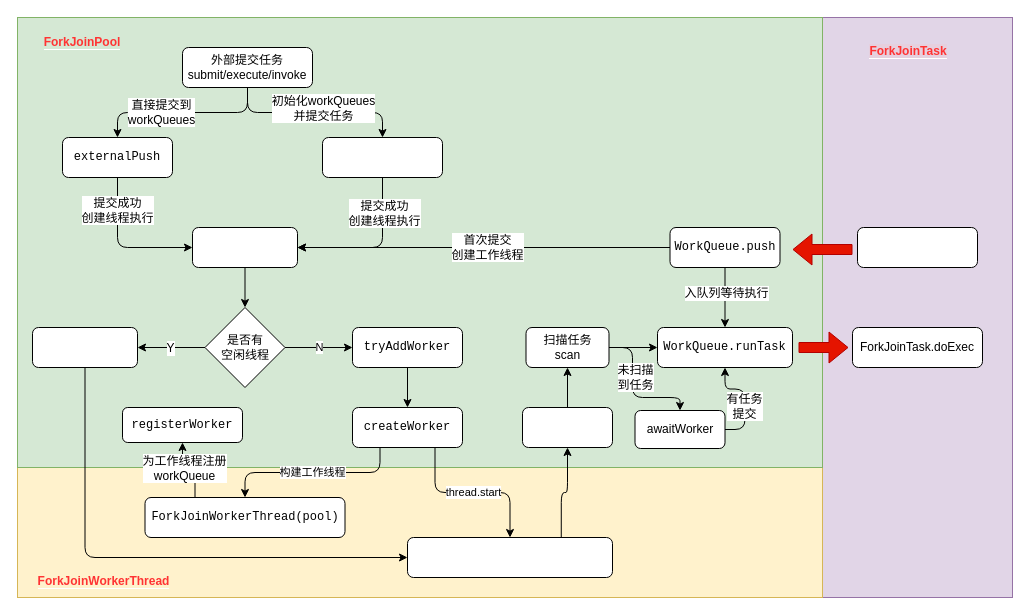
The diagram is 1030 pixels wide and 615 high, and some of its shapes have lost their labels. Here are the shapes that lost their labels. From the top down, the box of each, then its label:
(322, 136, 442, 178): externalSubmit
(192, 226, 298, 268): signalWork
(856, 226, 978, 268): worker任务 ForkJoinTask.fork
(32, 326, 138, 368): 唤醒线程unpark
(522, 406, 612, 448): runWorker
(406, 536, 612, 578): ForkJoinWorkerThread.run
